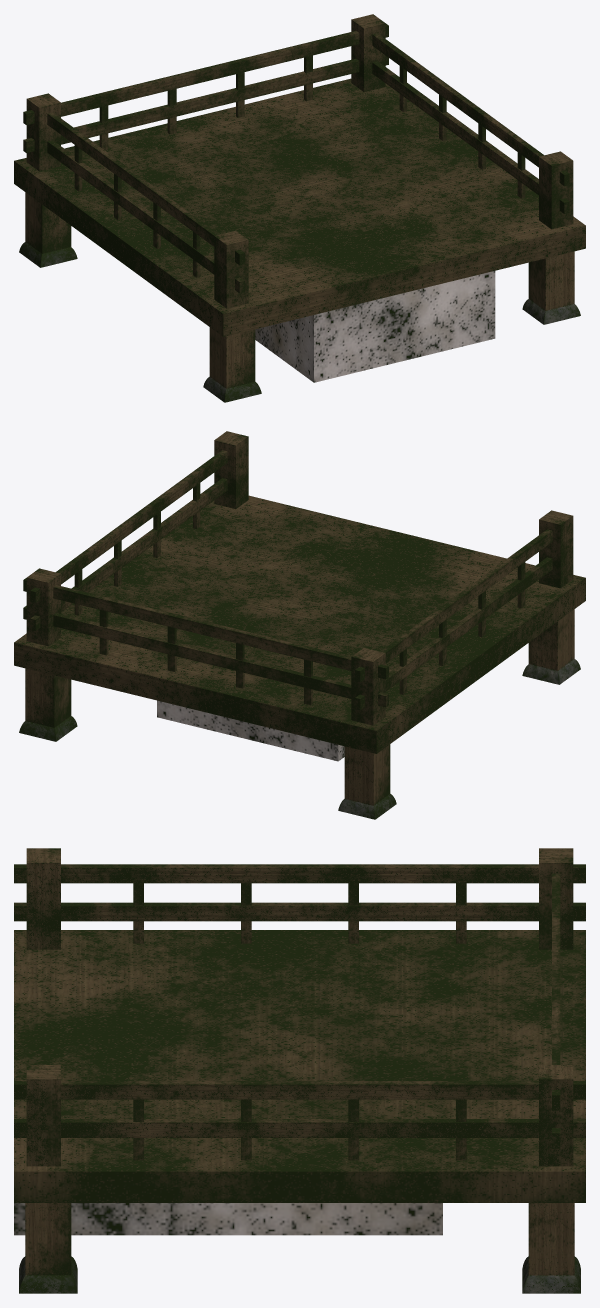
The model's file is shrine_floor_outside_protrusion_01.fbx.
3 views of the same model, one above another, from view 1: azimuth 30°, elevation 25°; view 2: azimuth 150°, elevation 25°; view 3: azimuth 270°, elevation 25° (orthographic). The views are drawn at different scales.
Visible parts, largest first — view 1: shrine_floor_outside_protrusion_01; view 2: shrine_floor_outside_protrusion_01; view 3: shrine_floor_outside_protrusion_01.
Boxes of the visible parts, x1,y1,x2,y2 form: shrine_floor_outside_protrusion_01: (14, 14, 585, 402); shrine_floor_outside_protrusion_01: (14, 431, 585, 819); shrine_floor_outside_protrusion_01: (14, 848, 585, 1293).
Bounding box in the file's own units: 330 × 134 × 330.
1 material, 1 textured.
